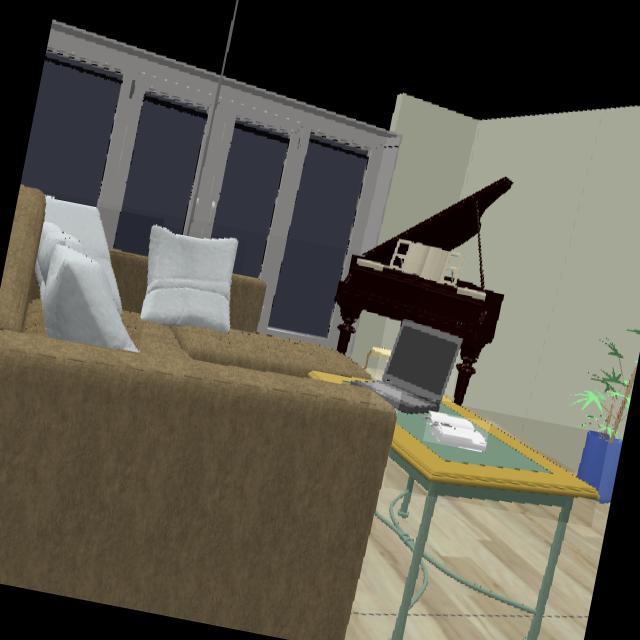book: (428, 413, 486, 451)
laptop: (372, 322, 462, 414)
pillow: (34, 197, 138, 354), (140, 225, 227, 331)
sofa: (0, 187, 393, 640)
table: (389, 403, 597, 511), (139, 227, 238, 333)
